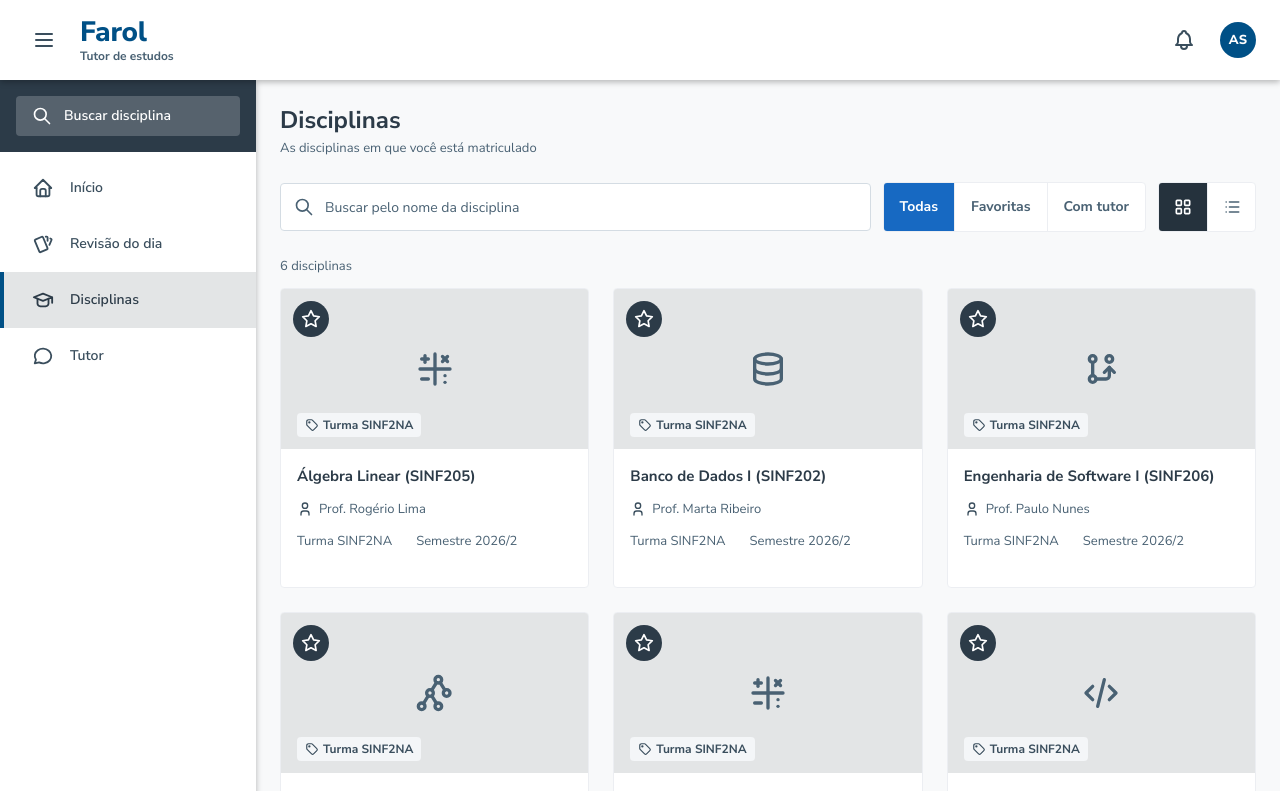
Test: abas e favoritos (ACE-T35) › avisa quando não consegue atualizar o favorito
What coordinates should you click on to do the following:
click the button named "Favoritar Estruturas de Dados"
I would click on:
 (311, 643)
Its box is [293,625,329,661].
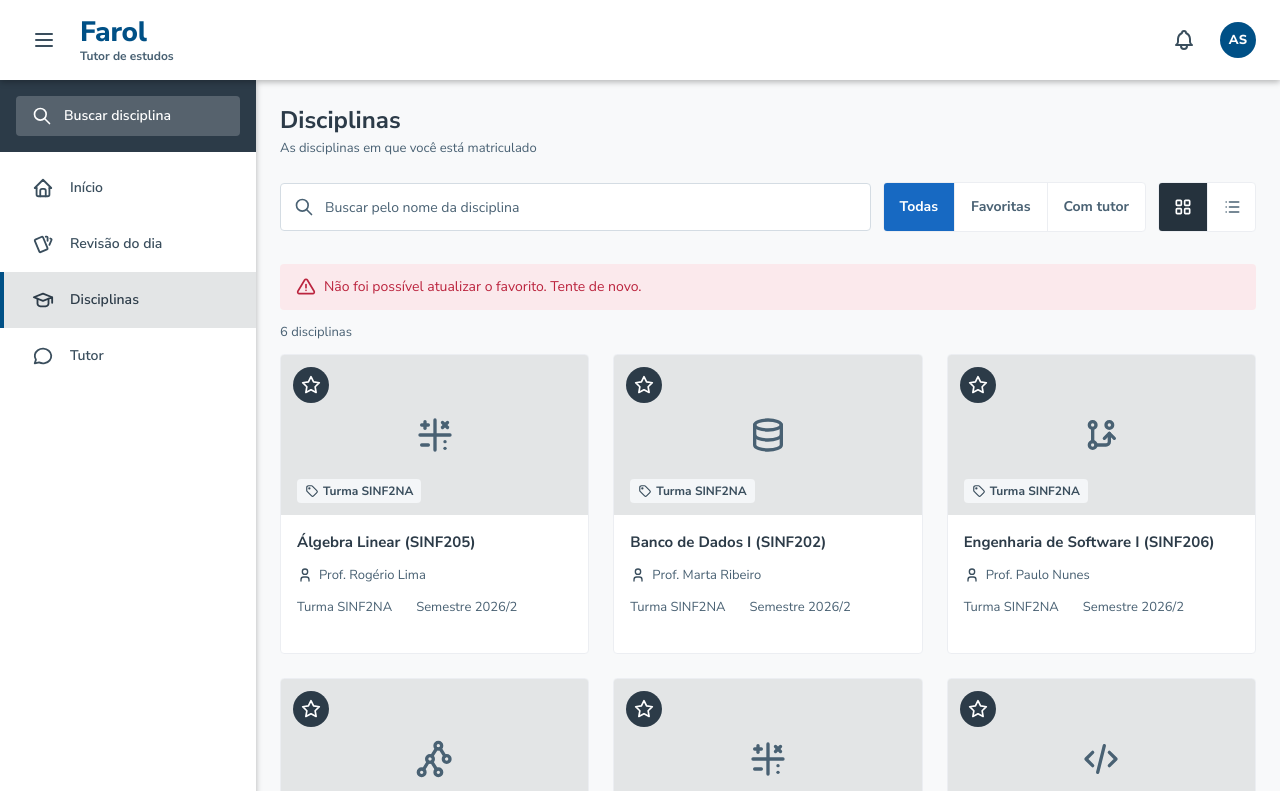
Result: the message "Não foi possível atualizar o favorito. Tente de novo." is shown at [280,264,1256,310]
